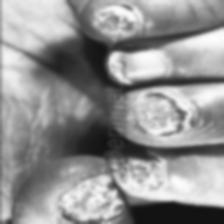Toxin: (60, 176, 127, 224), (132, 91, 192, 141), (94, 4, 142, 44)
